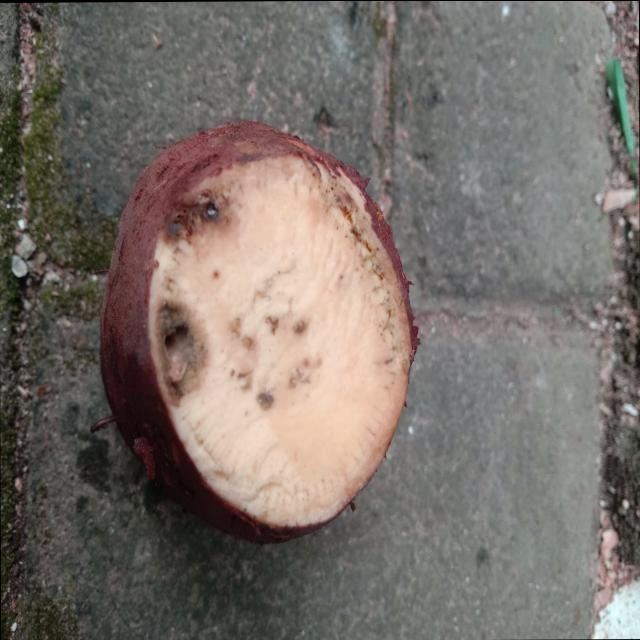Sick Sweet Potato_Tuber Rot: (150, 153, 412, 527)
